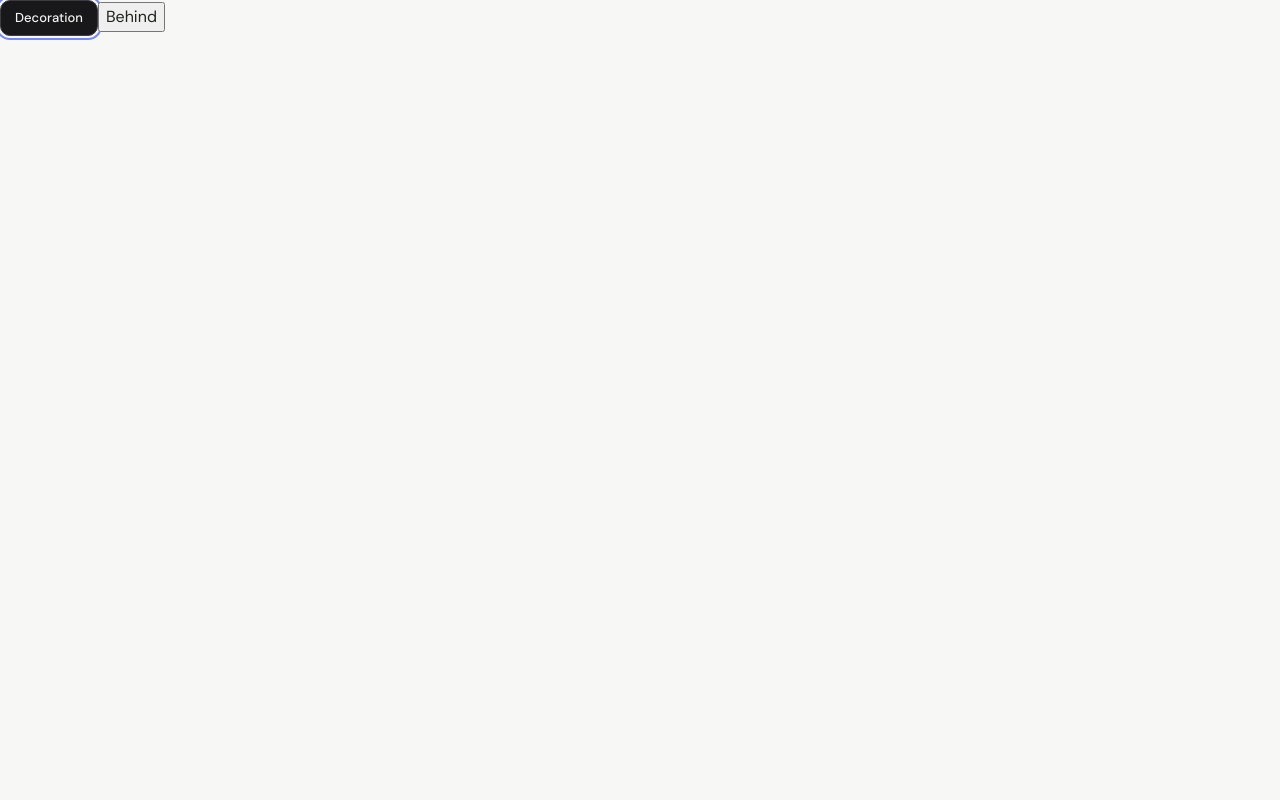
Test case: Dialog › is a labelled modal that takes focus into its content
The image size is (1280, 800).
Step 1. Click the button "Decoration" → (49, 18), box left=0, top=0, right=98, bottom=36
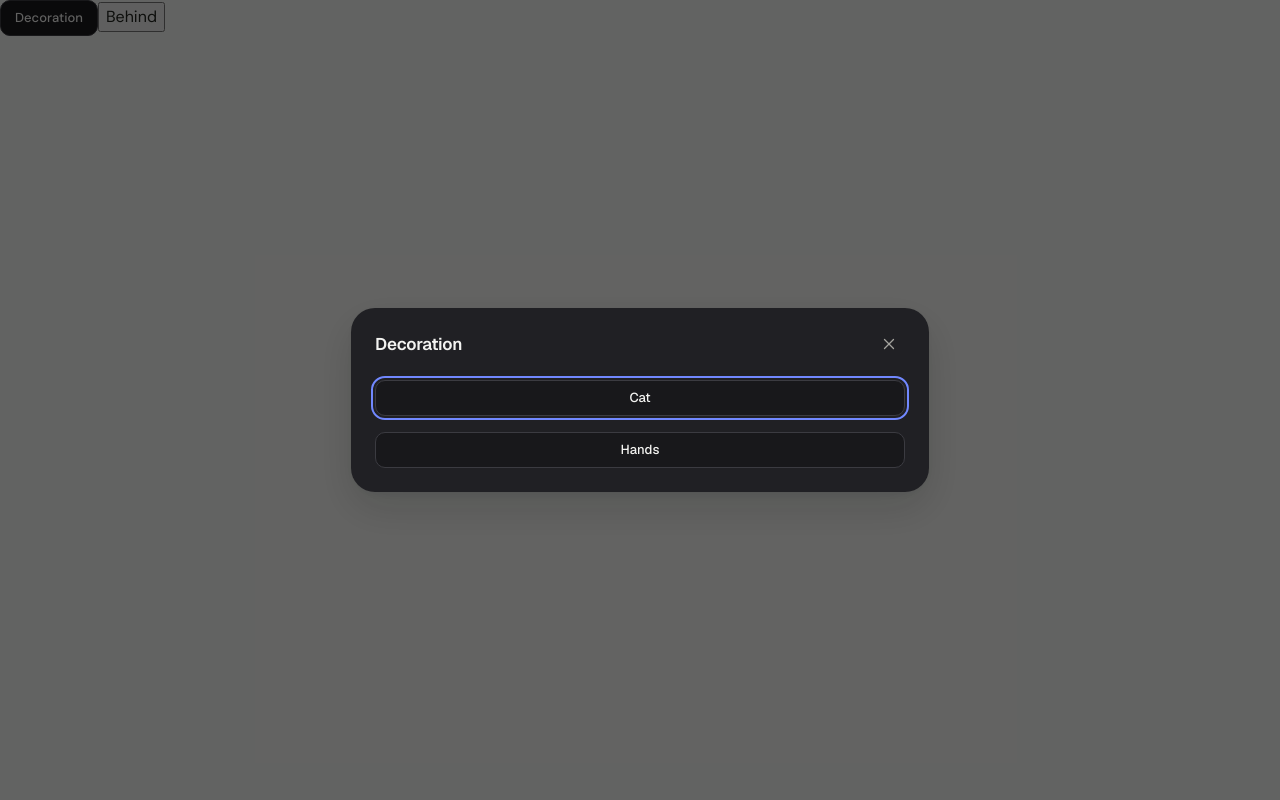
Now the heading "Decoration" is shown, box left=375, top=333, right=462, bottom=355
Now the button "Cat" is shown, box left=375, top=380, right=905, bottom=416
